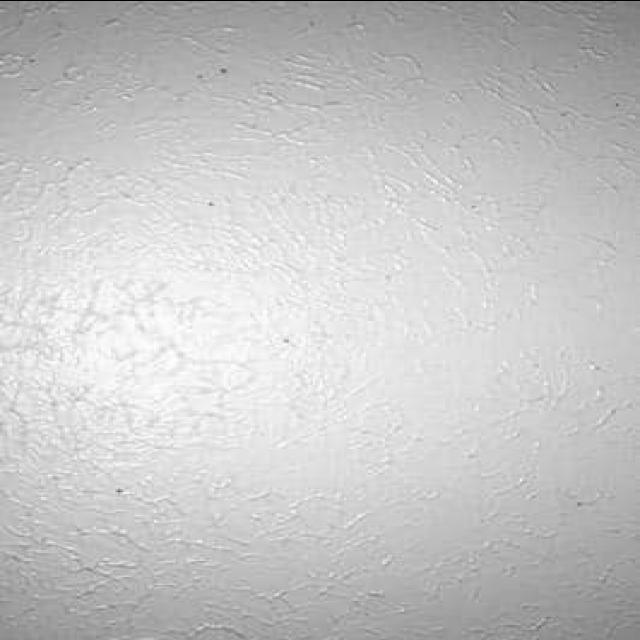pin holes: (200, 178, 223, 218), (564, 486, 588, 518), (210, 58, 237, 84), (21, 48, 47, 72), (265, 329, 292, 352), (301, 12, 324, 38), (188, 56, 204, 92), (105, 486, 141, 499), (606, 95, 627, 117)
stain marks: (2, 2, 640, 640)
